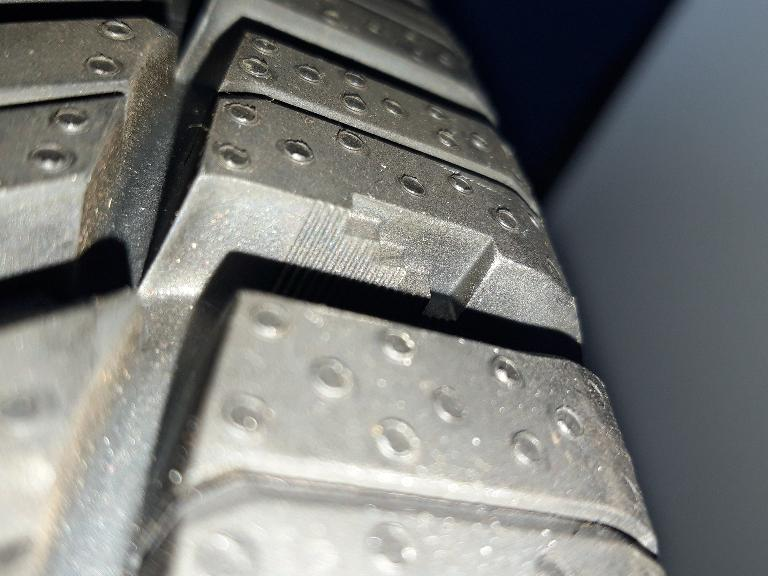temoin:100: (283, 182, 506, 338)
